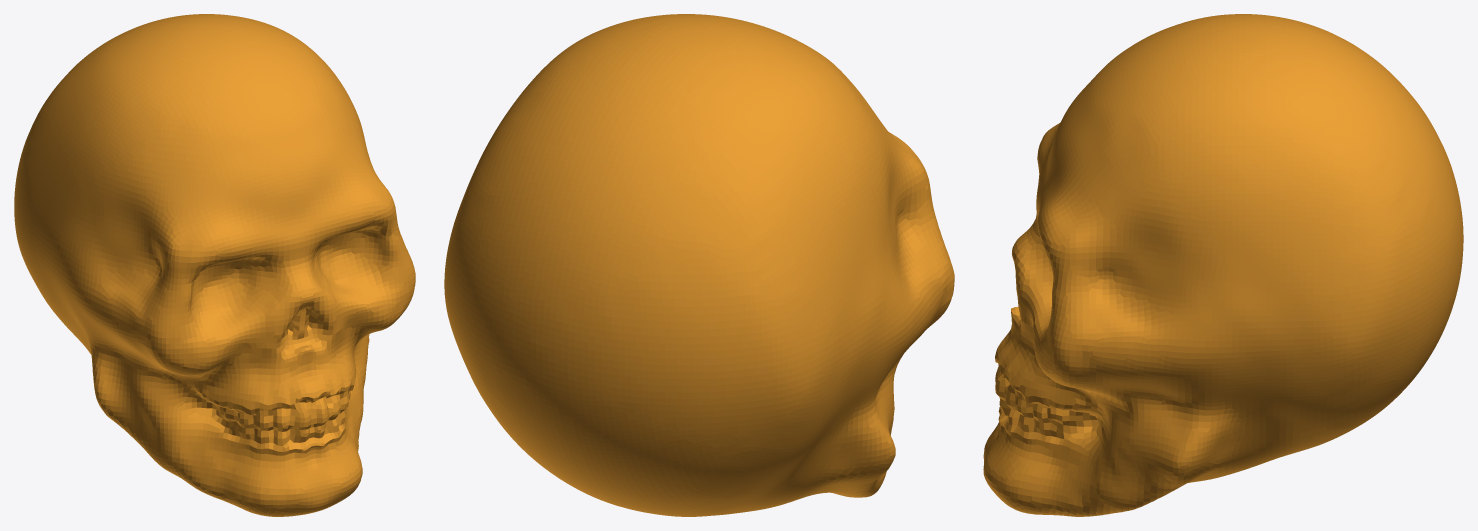
File: goldenskelly.glb
3 views of the same model, side by side, from view 1: azimuth 30°, elevation 25°; view 2: azimuth 150°, elevation 25°; view 3: azimuth 270°, elevation 25° (orthographic). The views are drawn at different scales.
Parts seen in each view (by area): view 1: skull; view 2: skull; view 3: skull.
Part boxes in pixels (x1,y1,x2,y2): skull: (14,14,415,516); skull: (444,14,954,516); skull: (983,14,1463,516).
Size of the model in its own units: 1.71 by 2.24 by 2.12.
